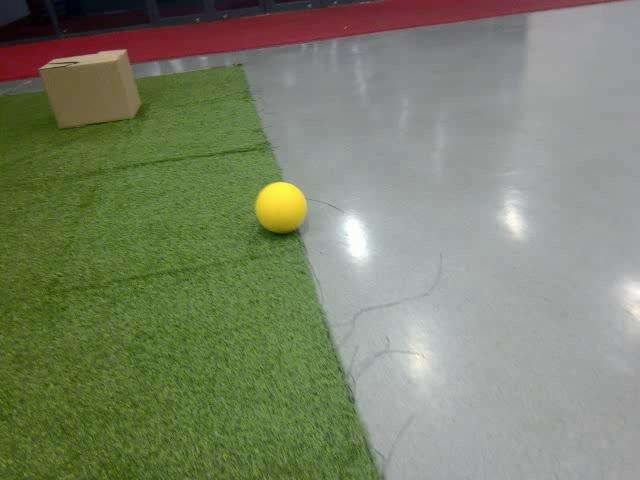yellow_ball: (255, 182, 307, 235)
